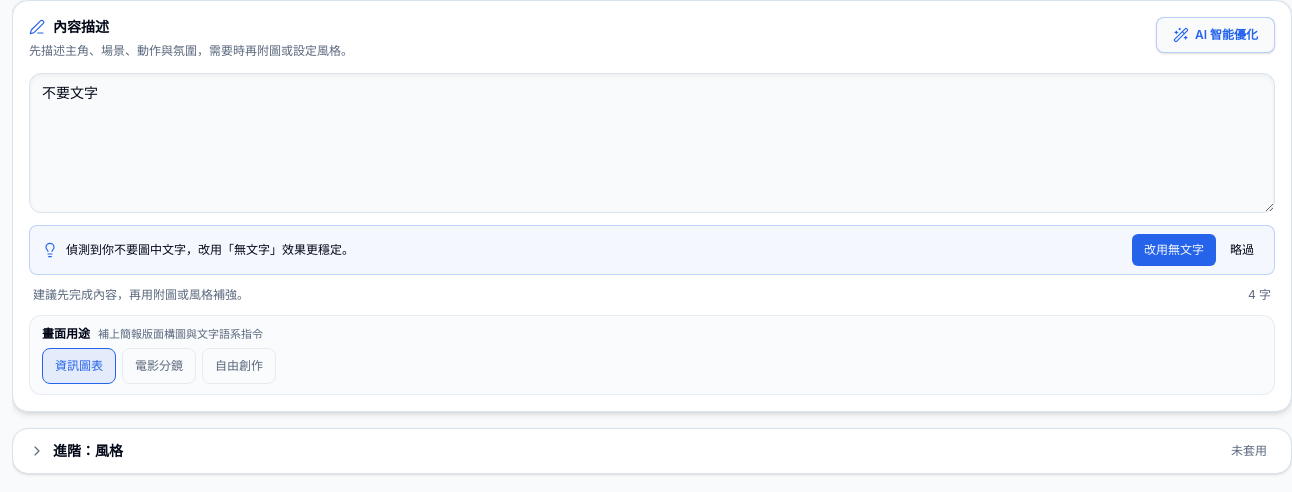
ScriptEditor no-text hint › dismisses until the prompt changes
Click the button "略過" at (1242, 250), box left=1222, top=234, right=1262, bottom=266
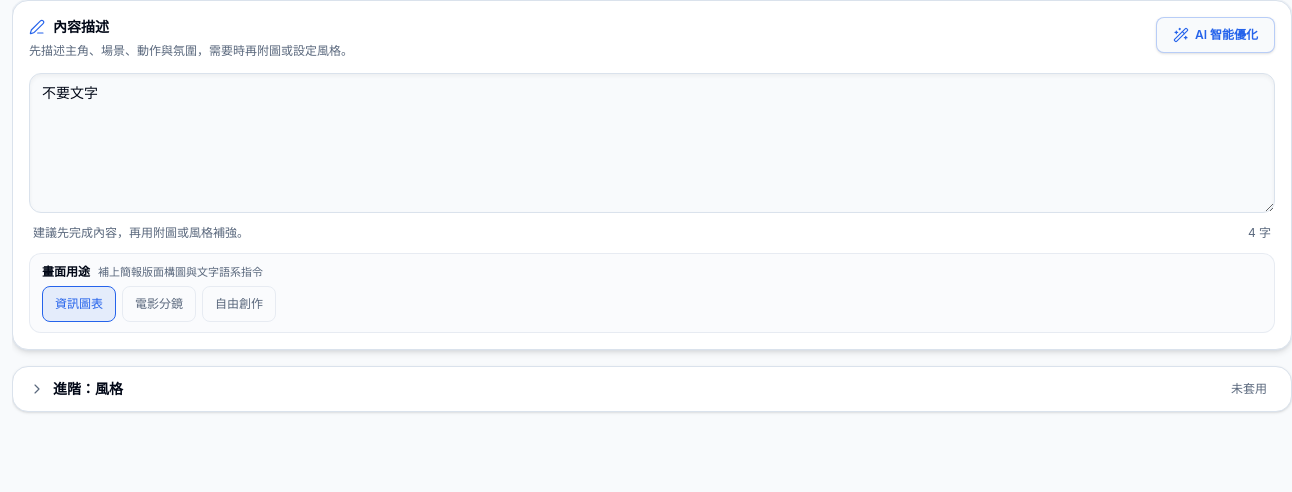
Result: the message "偵測到你不要圖中文字，改用「無文字」效果更穩定。 改用無文字 略過" is gone
Replace the text in the text box labelled "內容描述" with "不要文字，白色背景" at (652, 142), box left=29, top=72, right=1275, bottom=212
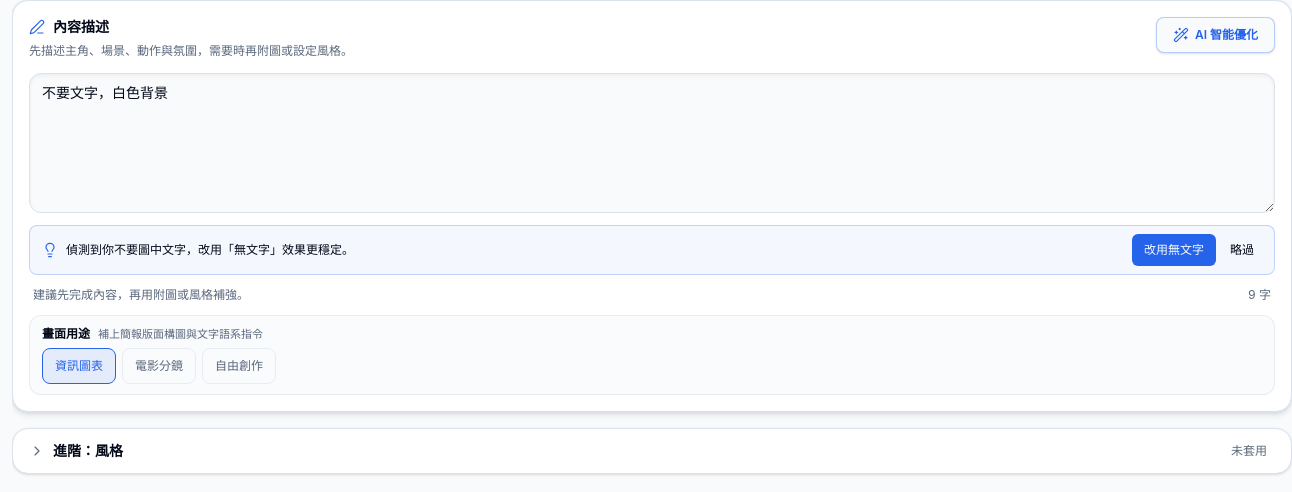
Result: the message "偵測到你不要圖中文字，改用「無文字」效果更穩定。 改用無文字 略過" is shown at left=29, top=224, right=1275, bottom=274
